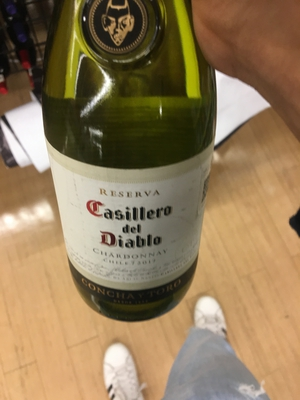casillero del diablo chardonnay: (41, 16, 226, 322)
